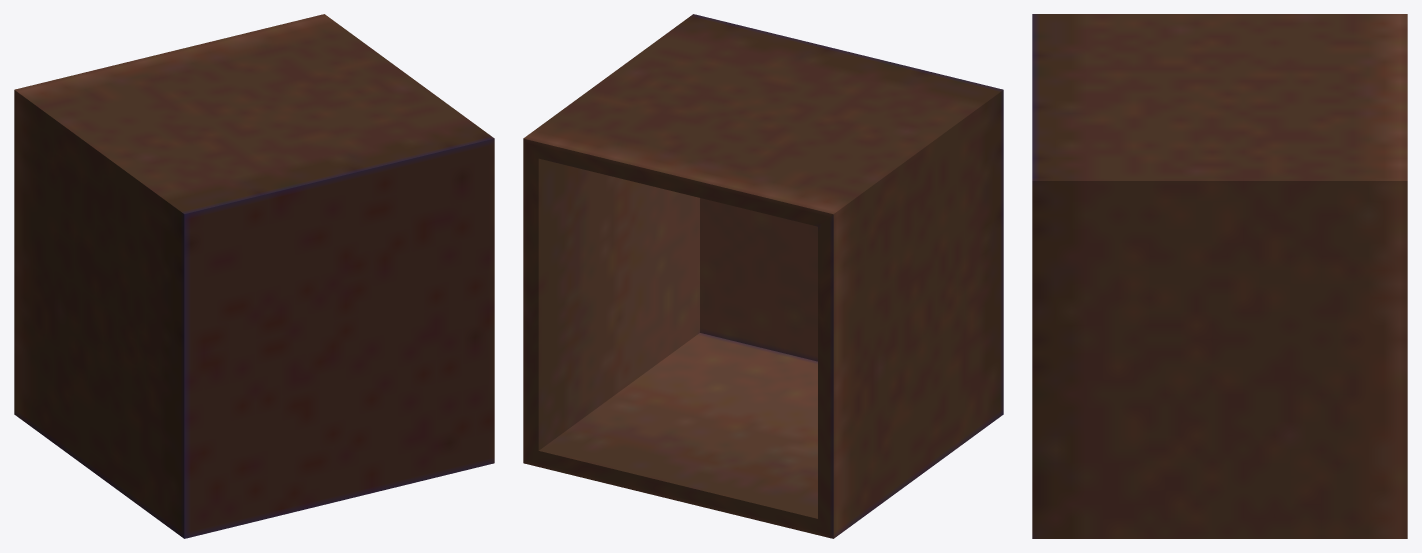
The model's file is small_cabinet.fbx.
3 renders of one model, left to right at view 1: azimuth 30°, elevation 25°; view 2: azimuth 150°, elevation 25°; view 3: azimuth 270°, elevation 25°, orthographic. The views are drawn at different scales.
Visible parts, largest first — view 1: Cabinet; view 2: Cabinet; view 3: Cabinet.
Boxes of the visible parts, x1,y1,x2,y2 form: Cabinet: (14, 14, 494, 538); Cabinet: (523, 14, 1003, 538); Cabinet: (1032, 14, 1407, 538).
Bounding box in the file's own units: 1.14 × 1.08 × 1.14.
1 material, 1 textured.
